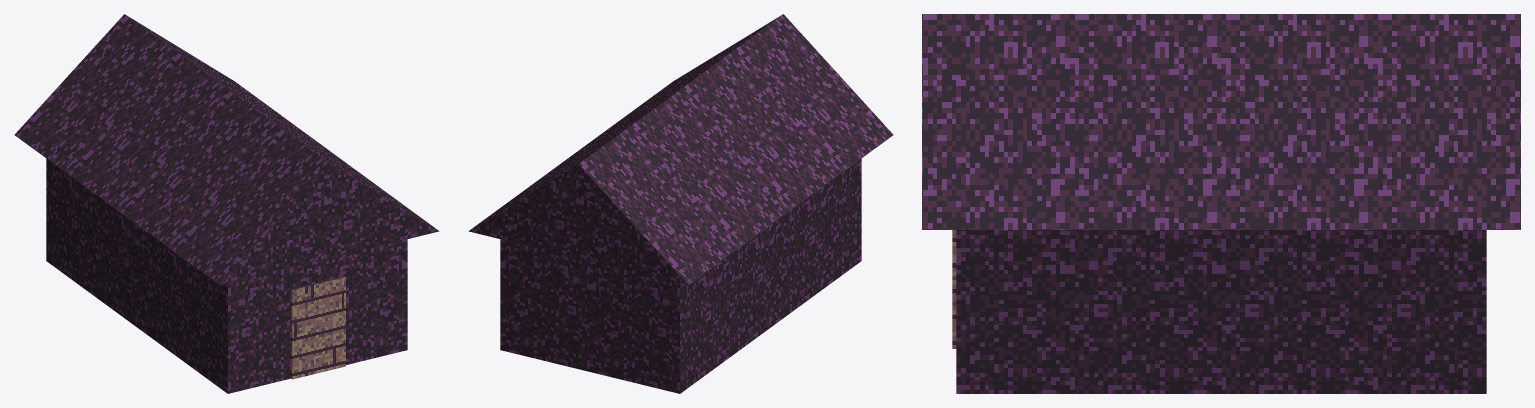
File: bastiao_obsidiana_salao.glb
The picture shows the model from 3 angles, left to right: view 1: azimuth 30°, elevation 25°; view 2: azimuth 150°, elevation 25°; view 3: azimuth 270°, elevation 25°; orthographic projection. The views are drawn at different scales.
Visible parts, largest first — view 1: bastiao_obsidiana_salao; view 2: bastiao_obsidiana_salao; view 3: bastiao_obsidiana_salao.
Boxes of the visible parts, x1,y1,x2,y2 form: bastiao_obsidiana_salao: [14, 14, 439, 393]; bastiao_obsidiana_salao: [468, 14, 893, 393]; bastiao_obsidiana_salao: [922, 14, 1520, 393].
Size of the model in its own units: 4.9 by 4.6 by 7.9.
2 materials, 2 textured.
